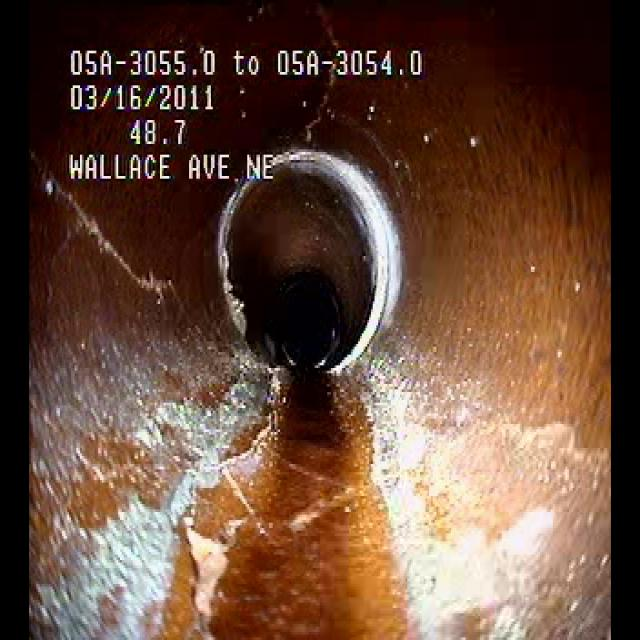Fracture: (178, 387, 294, 550), (42, 189, 166, 326)
